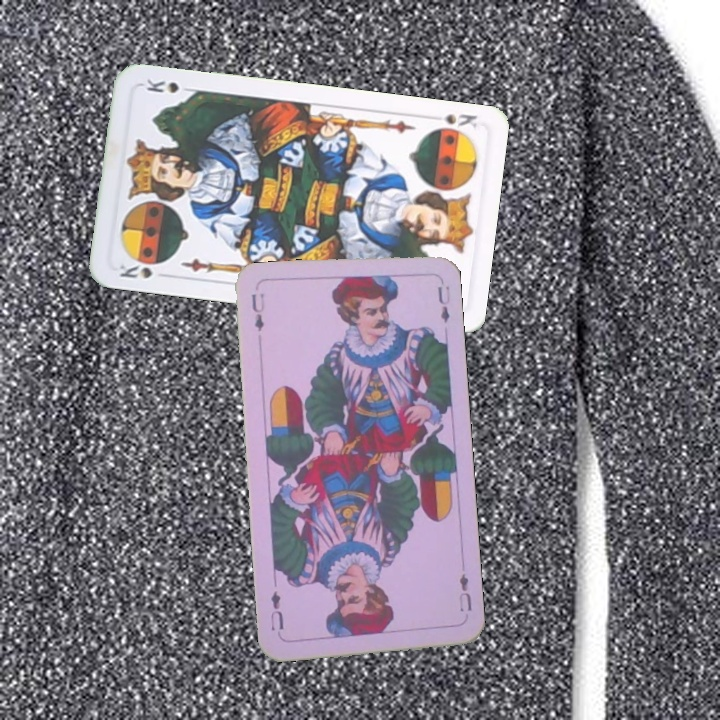EU: (247, 289, 268, 334), (455, 569, 475, 615)
SK: (115, 255, 166, 281), (424, 109, 480, 131)
